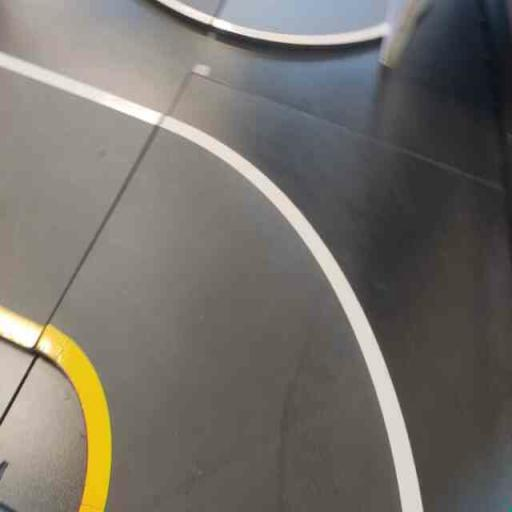left: (31, 110, 426, 511)
